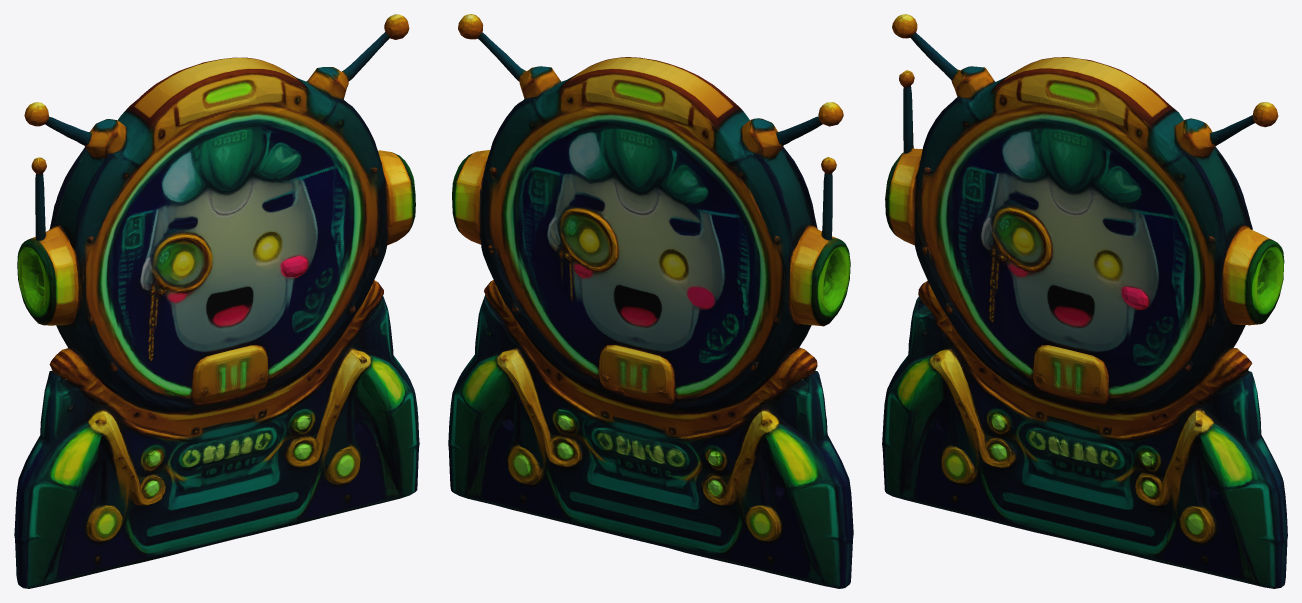
Rendered from accountant.glb.
The picture shows the model from 3 angles, left to right: view 1: azimuth 30°, elevation 25°; view 2: azimuth 150°, elevation 25°; view 3: azimuth 330°, elevation 25°; orthographic projection.
Visible parts, largest first — view 1: world; view 2: world; view 3: world.
Part boxes in pixels (box(x1,y1,x2,y2)): world: box(14, 14, 419, 588); world: box(448, 14, 853, 588); world: box(882, 14, 1287, 588).
Bounding box in the file's own units: 0.8596 × 0.9843 × 0.1364.
1 material, 1 textured.
